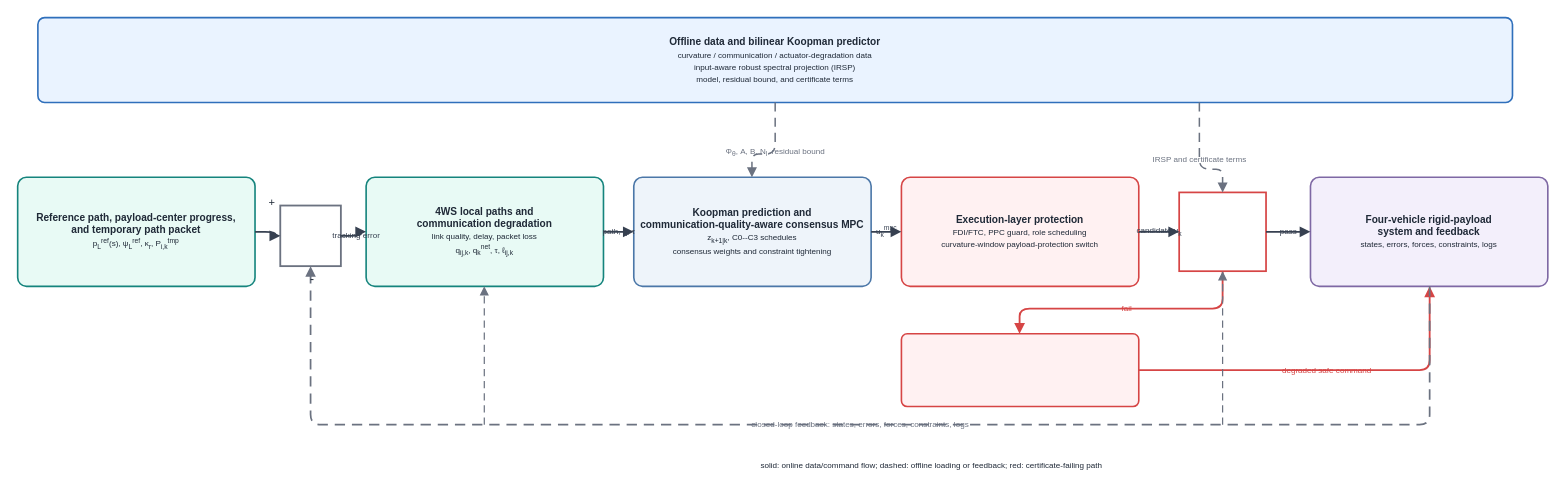
Some shapes in this 1567 by 493 pixel diagram are drawn without their labels. Here are the shapes that lost their labels. From the top down, the centre of each, then its label:
point 310,235: Σ + / -
point 1222,231: Certificate passes? m k ≥ -ε m
point 1019,369: Projection / tightening / C3 degraded fallback reference contraction if needed
